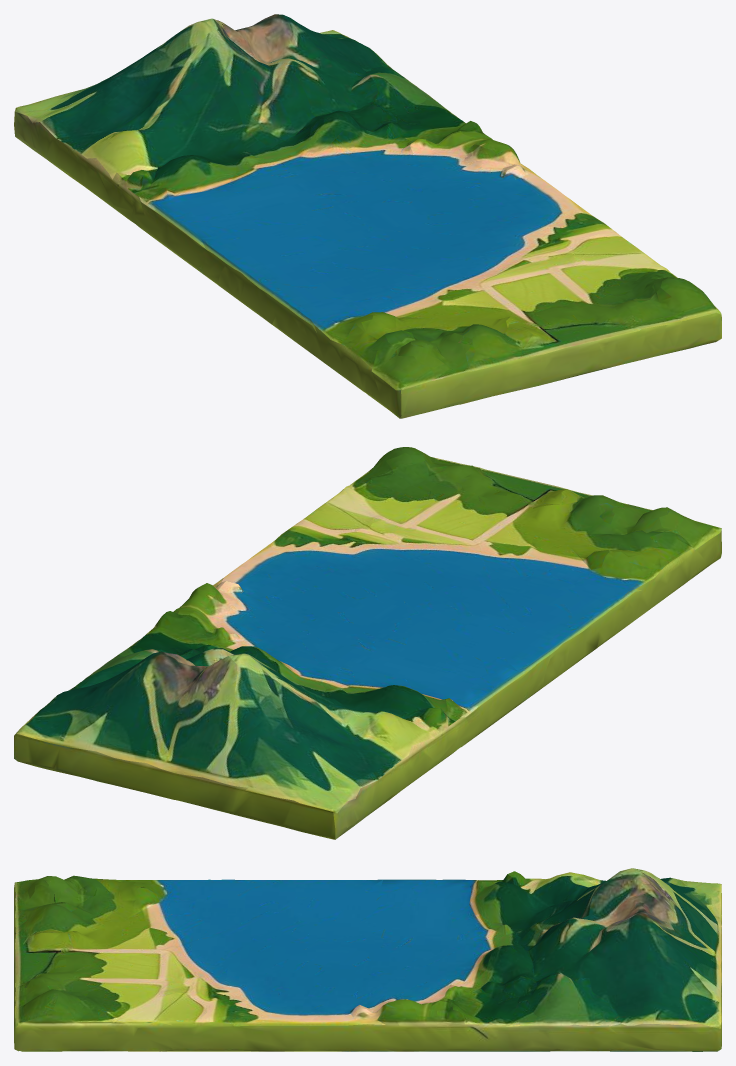
Rendered from lake-inawashiro.glb.
3 views of the same model, one above another, from view 1: azimuth 30°, elevation 25°; view 2: azimuth 150°, elevation 25°; view 3: azimuth 270°, elevation 25° (orthographic). The views are drawn at different scales.
Visible parts, largest first — view 1: logan-textured.obj; view 2: logan-textured.obj; view 3: logan-textured.obj.
Part boxes in pixels (left/top/right/bottom): logan-textured.obj: left=14, top=14, right=721, bottom=418; logan-textured.obj: left=14, top=447, right=721, bottom=839; logan-textured.obj: left=14, top=868, right=721, bottom=1051.
Bounding box in the file's own units: 0.4852 × 0.1643 × 1.
Materials: 1 (1 with a texture image).
